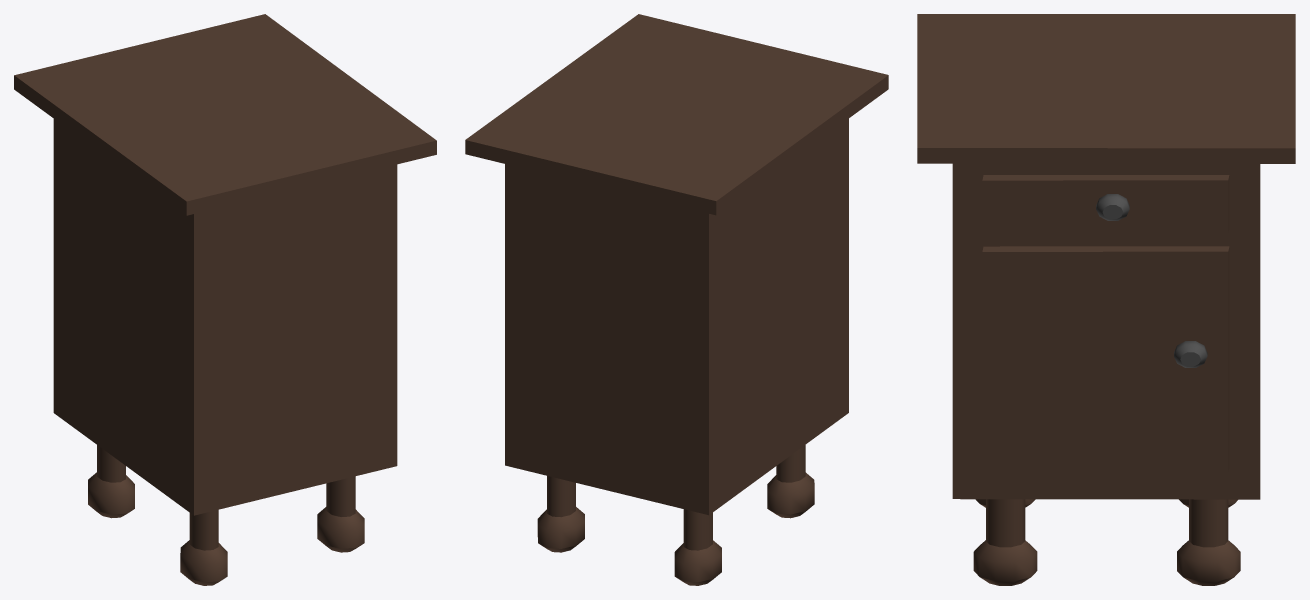
Rendered from S_Bedsidetable.fbx.
3 views of the same model, side by side, from view 1: azimuth 30°, elevation 25°; view 2: azimuth 150°, elevation 25°; view 3: azimuth 270°, elevation 25° (orthographic). The views are drawn at different scales.
Visible parts, largest first — view 1: S_Bedsidetable; view 2: S_Bedsidetable; view 3: S_Bedsidetable.
Boxes of the visible parts, bbox=[...] form: S_Bedsidetable: bbox=[14, 14, 436, 585]; S_Bedsidetable: bbox=[465, 14, 888, 585]; S_Bedsidetable: bbox=[917, 14, 1295, 585].
Size of the model in its own units: 57.55 by 91.11 by 67.68.
